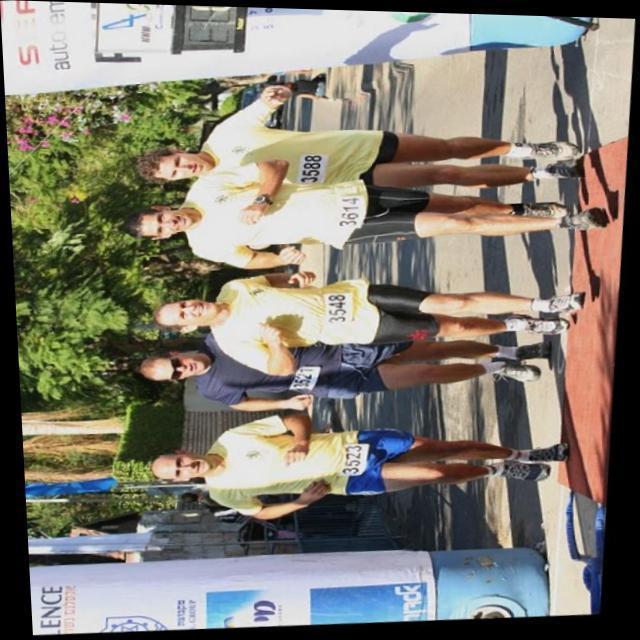dorsal: (331, 192, 376, 236), (321, 290, 366, 332), (340, 441, 379, 482), (292, 153, 335, 190), (292, 364, 332, 395)
